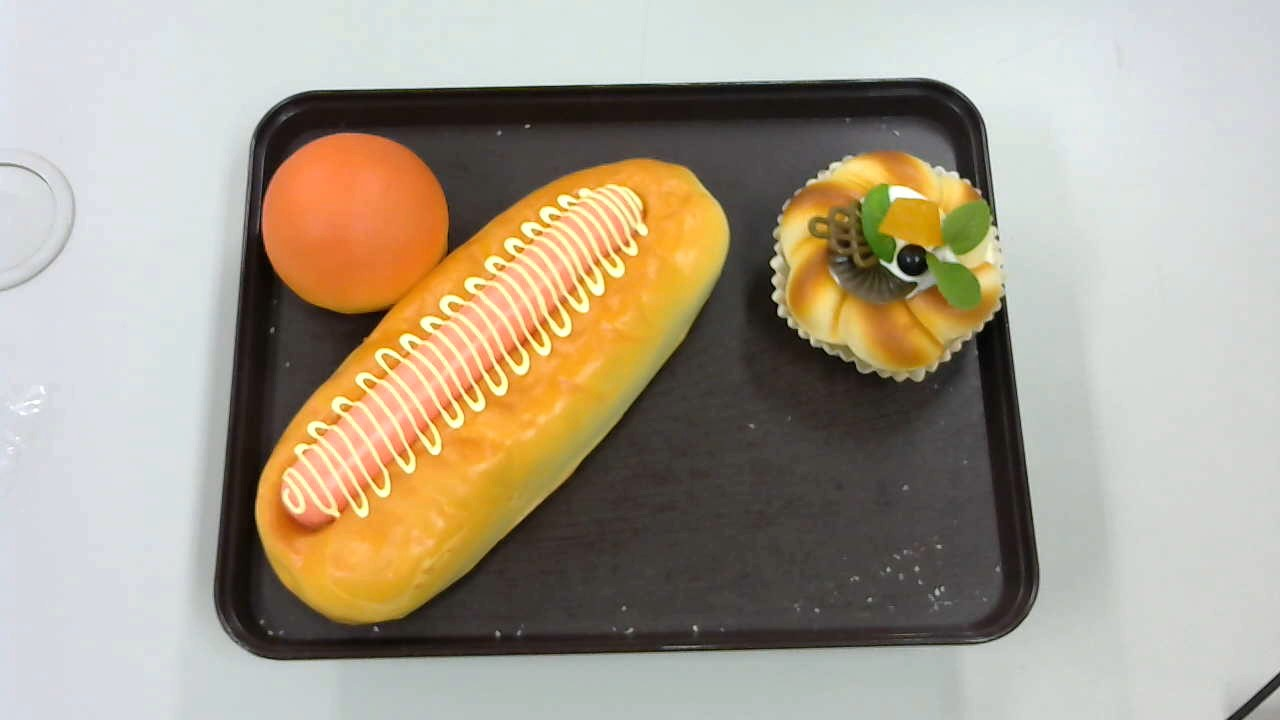bun: (262, 129, 450, 307)
fruit tart: (770, 149, 1005, 381)
hot dog: (256, 156, 730, 624)
